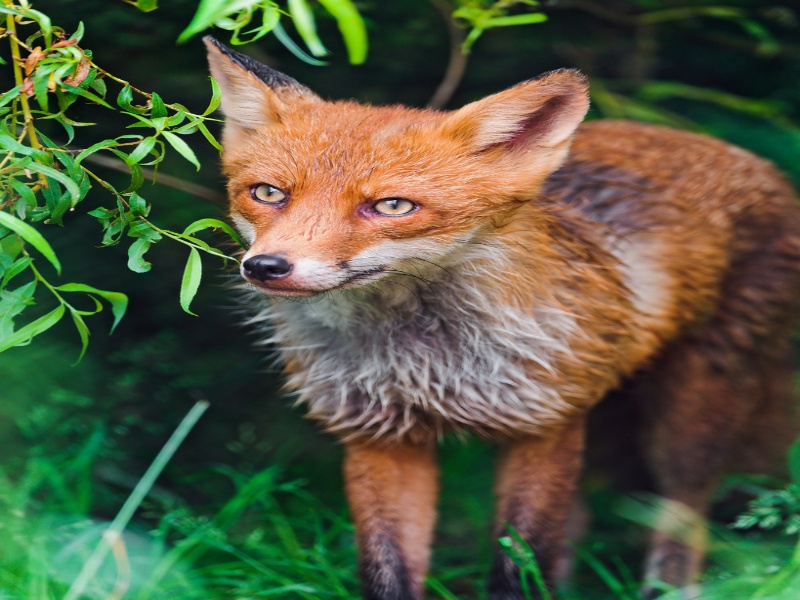fox: (197, 34, 797, 594)
